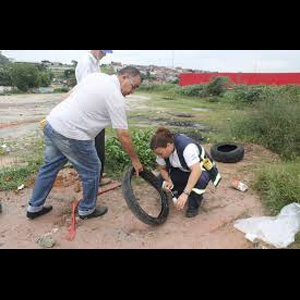tire: (121, 166, 169, 226), (211, 141, 244, 162)
